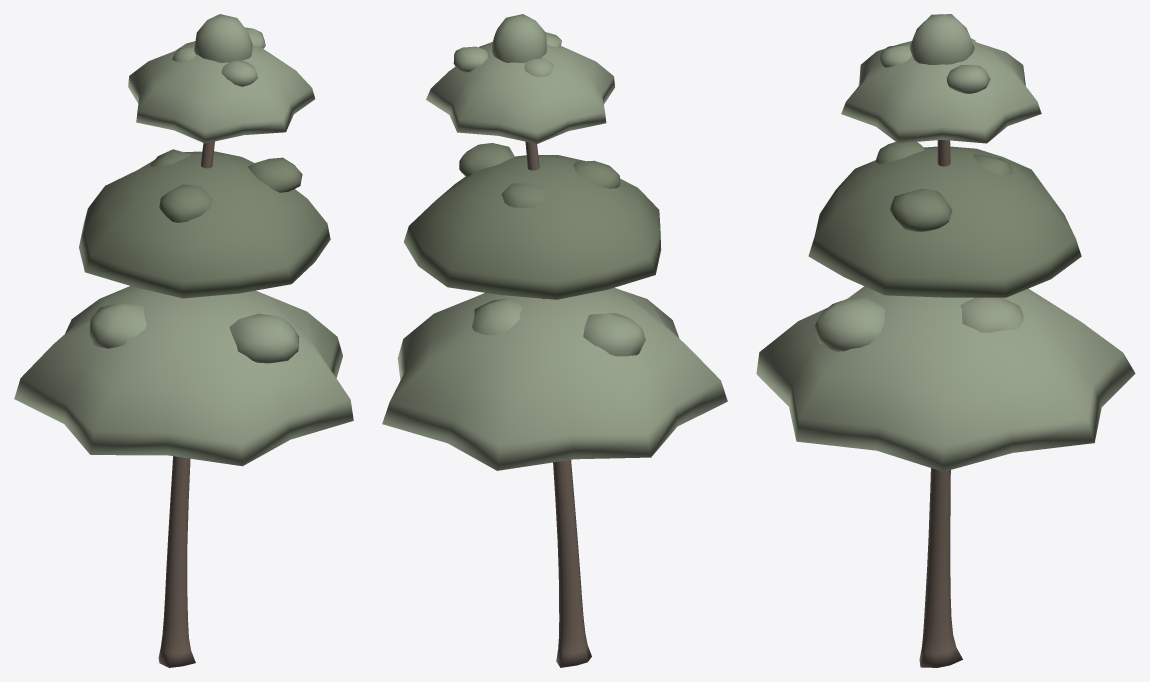
File: tree_lush_b.glb
3 renders of one model, left to right at view 1: azimuth 30°, elevation 25°; view 2: azimuth 150°, elevation 25°; view 3: azimuth 270°, elevation 25°, orthographic. The views are drawn at different scales.
Parts seen in each view (by area): view 1: Body; view 2: Body; view 3: Body.
Boxes of the visible parts, x1,y1,x2,y2 form: Body: (14, 14, 353, 667); Body: (382, 14, 727, 667); Body: (756, 14, 1135, 667).
Size of the model in its own units: 6.98 by 14.42 by 7.4.
